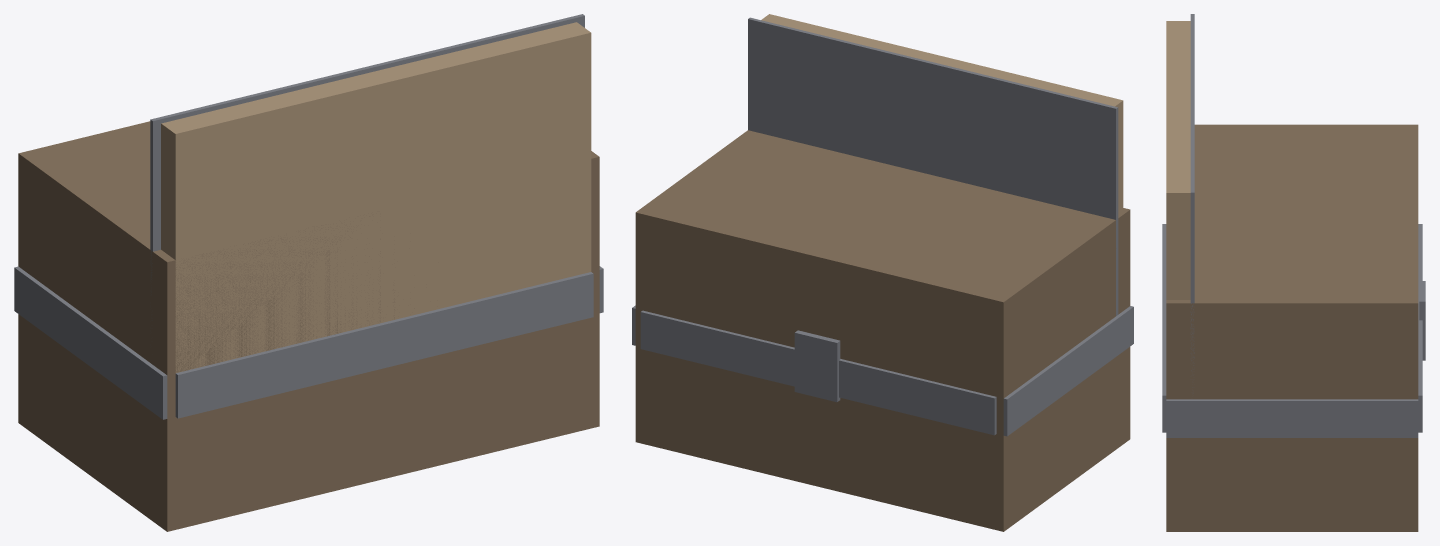
File: chest.glb
3 views of the same model, side by side, from view 1: azimuth 30°, elevation 25°; view 2: azimuth 150°, elevation 25°; view 3: azimuth 270°, elevation 25° (orthographic). The views are drawn at different scales.
Parts seen in each view (by area): view 1: lod0; view 2: lod0; view 3: lod0.
Part boxes in pixels (x1,y1,x2,y2): lod0: [14, 14, 603, 531]; lod0: [632, 14, 1133, 531]; lod0: [1162, 14, 1425, 531].
Size of what is drawn, in the model's own units: 1.06 by 0.92 by 0.648.
